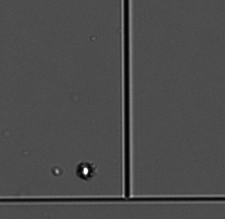Living Cell: (75, 160, 95, 181)
